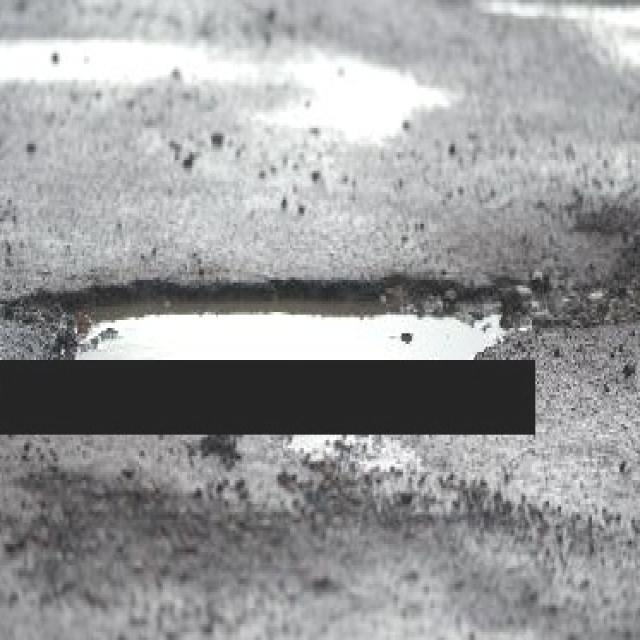road-pothole: (11, 274, 545, 365)
